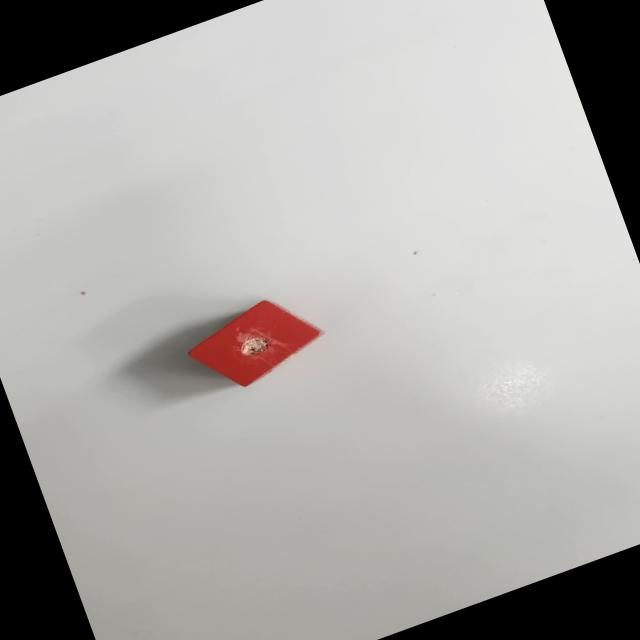broken: (178, 284, 334, 403)
